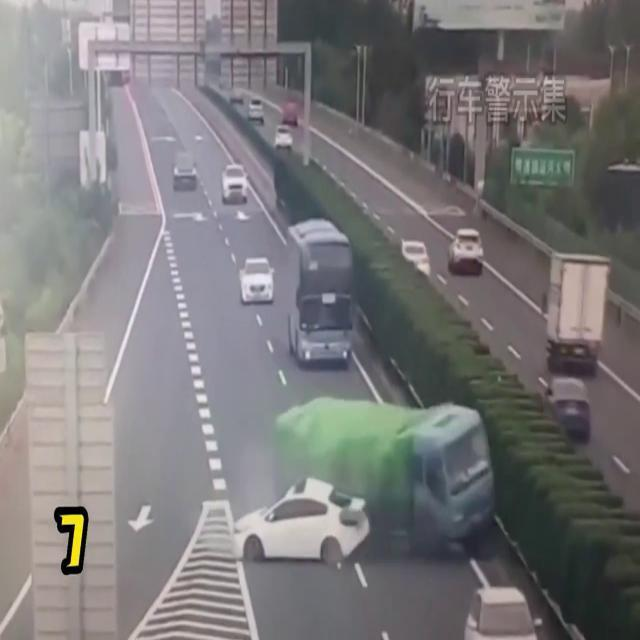accident: (229, 394, 501, 568)
non-accident: (238, 220, 358, 368), (538, 248, 612, 446)
